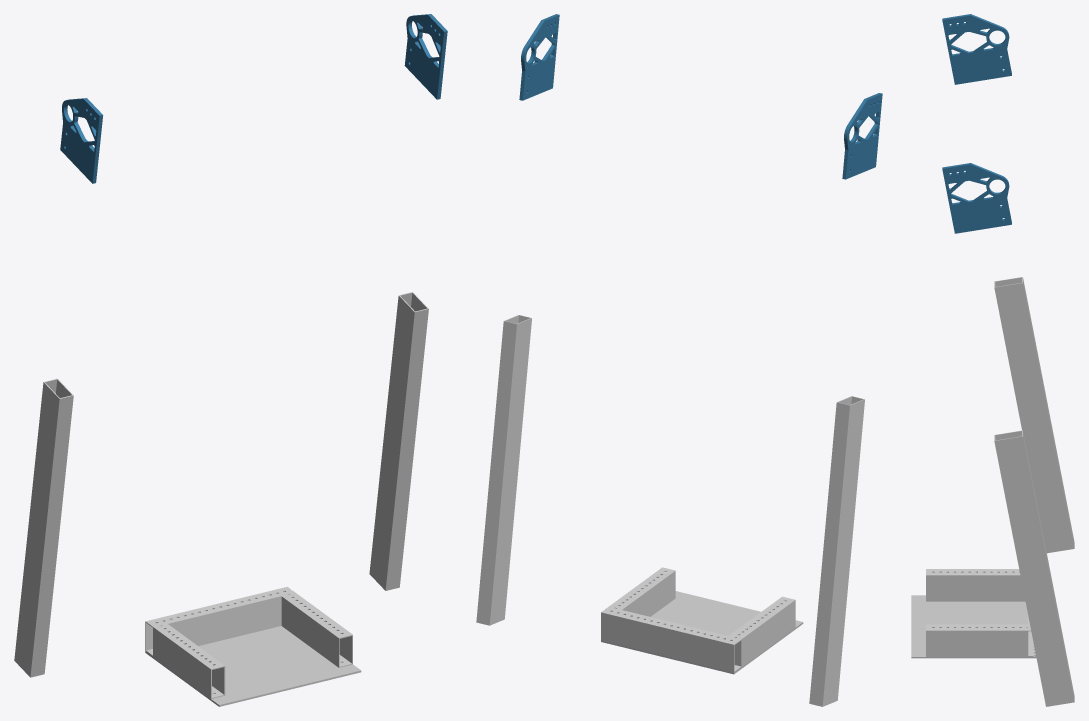
3 views of the same model, side by side, from view 1: azimuth 30°, elevation 25°; view 2: azimuth 150°, elevation 25°; view 3: azimuth 270°, elevation 25° (orthographic). The views are drawn at different scales.
Visible parts, largest first — view 1: 2" x 1" x 0.0625" Aluminum Box Tube (20.5" L, No Pattern), 2" x 1" x 0.0625" Aluminum Box Tube (20.5" L, No Pattern).00, Part 1.001, 2" x 1" x 0.0625" Aluminum Box Tube (7" L, Top Pattern, 0.5" (×2), 2" x 1" x 0.0625" Aluminum Box Tube (10" L, Top Pattern, 0.5, Part 1.002, Part 1; view 2: 2" x 1" x 0.0625" Aluminum Box Tube (20.5" L, No Pattern), 2" x 1" x 0.0625" Aluminum Box Tube (20.5" L, No Pattern).00, 2" x 1" x 0.0625" Aluminum Box Tube (10" L, Top Pattern, 0.5, 2" x 1" x 0.0625" Aluminum Box Tube (7" L, Top Pattern, 0.5" (×2), Part 1.001, Part 1.002, Part 1; view 3: 2" x 1" x 0.0625" Aluminum Box Tube (20.5" L, No Pattern).00, 2" x 1" x 0.0625" Aluminum Box Tube (20.5" L, No Pattern), 2" x 1" x 0.0625" Aluminum Box Tube (7" L, Top Pattern, 0.5" (×2), Part 1.001, Part 1.002, Part 1.
Part boxes in pixels (bbox=[...]): 2" x 1" x 0.0625" Aluminum Box Tube (20.5" L, No Pattern): bbox=[14, 378, 73, 677]; 2" x 1" x 0.0625" Aluminum Box Tube (20.5" L, No Pattern).00: bbox=[369, 292, 428, 590]; Part 1.001: bbox=[145, 626, 361, 706]; 2" x 1" x 0.0625" Aluminum Box Tube (7" L, Top Pattern, 0.5" (×2): bbox=[153, 592, 352, 698]; 2" x 1" x 0.0625" Aluminum Box Tube (10" L, Top Pattern, 0.5: bbox=[145, 586, 295, 656]; Part 1.002: bbox=[404, 14, 447, 99]; Part 1: bbox=[60, 98, 103, 183]; 2" x 1" x 0.0625" Aluminum Box Tube (20.5" L, No Pattern): bbox=[809, 396, 864, 706]; 2" x 1" x 0.0625" Aluminum Box Tube (20.5" L, No Pattern).00: bbox=[476, 315, 531, 625]; 2" x 1" x 0.0625" Aluminum Box Tube (10" L, Top Pattern, 0.5: bbox=[601, 606, 741, 672]; 2" x 1" x 0.0625" Aluminum Box Tube (7" L, Top Pattern, 0.5" (×2): bbox=[609, 567, 795, 666]; Part 1.001: bbox=[601, 591, 803, 674]; Part 1.002: bbox=[519, 14, 559, 100]; Part 1: bbox=[842, 93, 882, 179]; 2" x 1" x 0.0625" Aluminum Box Tube (20.5" L, No Pattern).00: bbox=[994, 430, 1074, 706]; 2" x 1" x 0.0625" Aluminum Box Tube (20.5" L, No Pattern): bbox=[994, 277, 1074, 553]; 2" x 1" x 0.0625" Aluminum Box Tube (7" L, Top Pattern, 0.5" (×2): bbox=[926, 569, 1027, 656]; Part 1.001: bbox=[911, 595, 1036, 658]; Part 1.002: bbox=[942, 163, 1011, 233]; Part 1: bbox=[942, 14, 1011, 84].
Bounding box in the file's own units: 66.04 × 104 × 28.55.
